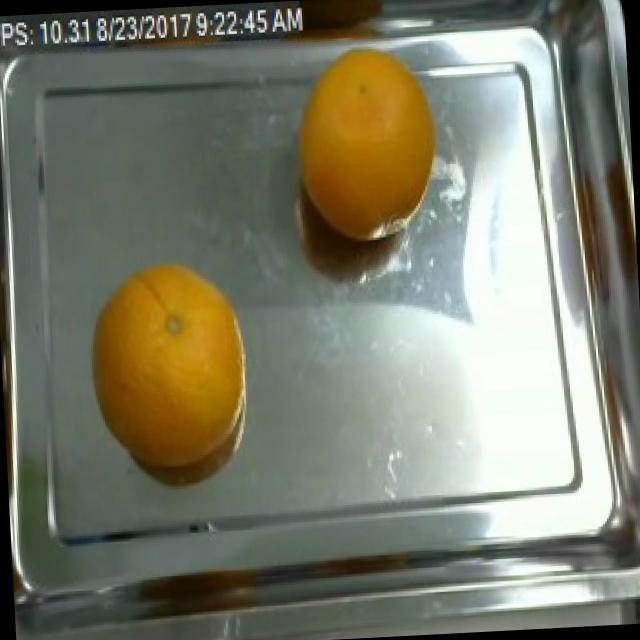Fruit: (272, 30, 452, 255)
